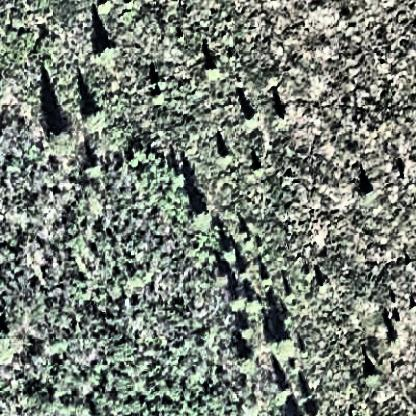tree-top: (78, 105, 108, 131), (46, 124, 73, 152), (94, 36, 119, 61), (189, 204, 215, 228), (233, 351, 260, 373), (273, 330, 296, 353), (227, 290, 249, 312), (363, 362, 382, 385), (203, 62, 221, 82), (358, 181, 374, 202), (243, 109, 261, 127), (222, 242, 239, 260)
